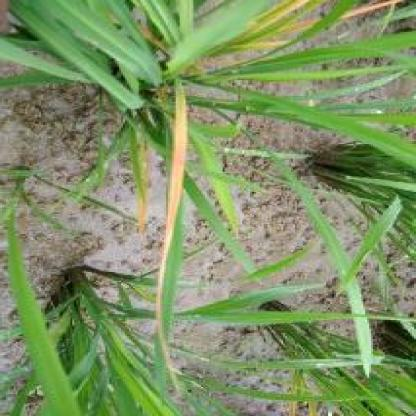Tungro: (160, 82, 188, 311)
